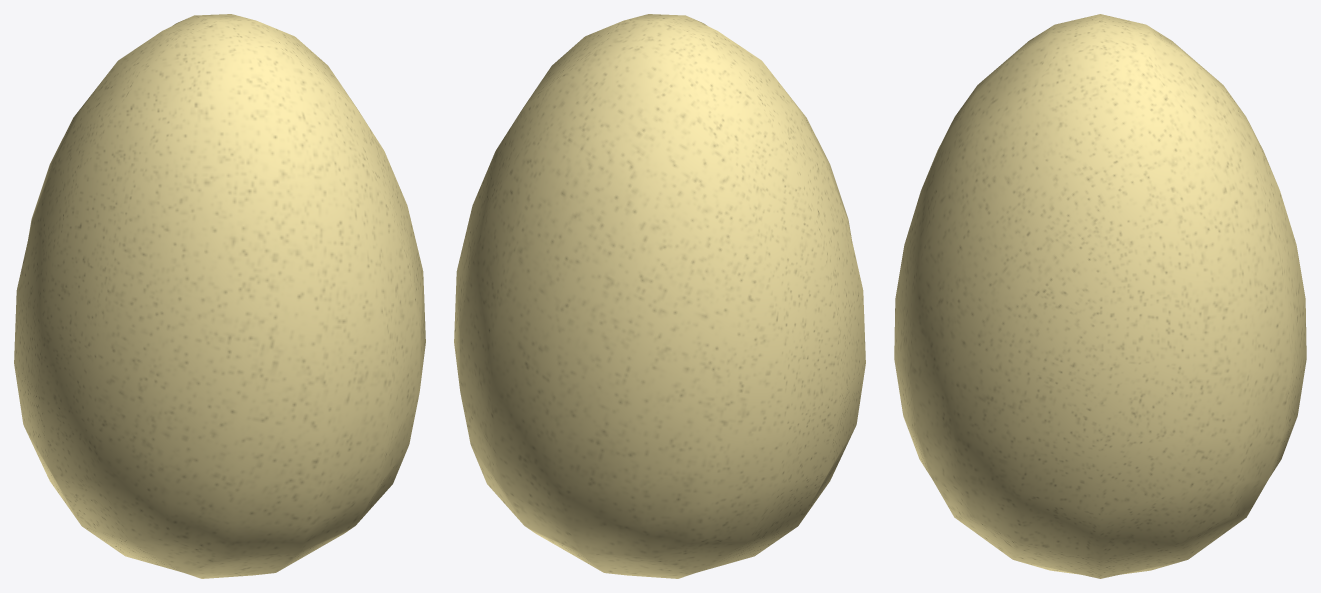
File: eggwhite.glb
3 renders of one model, left to right at view 1: azimuth 30°, elevation 25°; view 2: azimuth 150°, elevation 25°; view 3: azimuth 270°, elevation 25°, orthographic.
Parts seen in each view (by area): view 1: eggwhite; view 2: eggwhite; view 3: eggwhite.
Boxes of the visible parts, x1,y1,x2,y2 form: eggwhite: [14, 14, 425, 578]; eggwhite: [454, 14, 865, 578]; eggwhite: [894, 14, 1306, 578].
Bounding box in the file's own units: 0.0906 × 0.1298 × 0.0902.
1 material, 1 textured.
